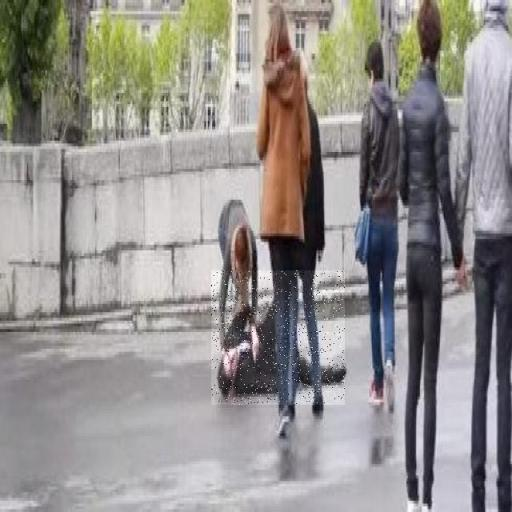Fall: (211, 270, 345, 405)
